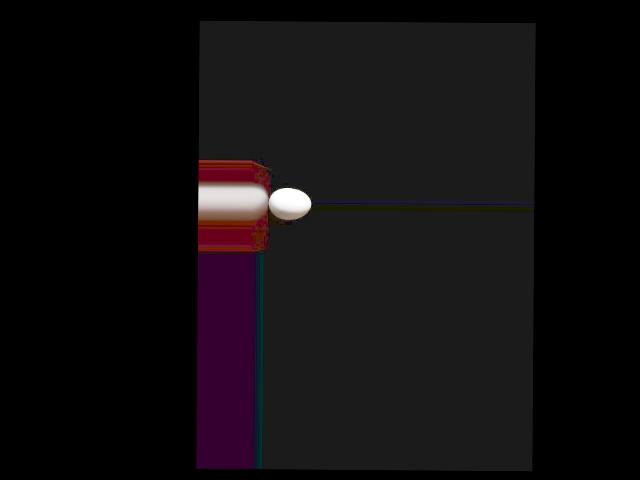egg: (268, 187, 311, 219)
